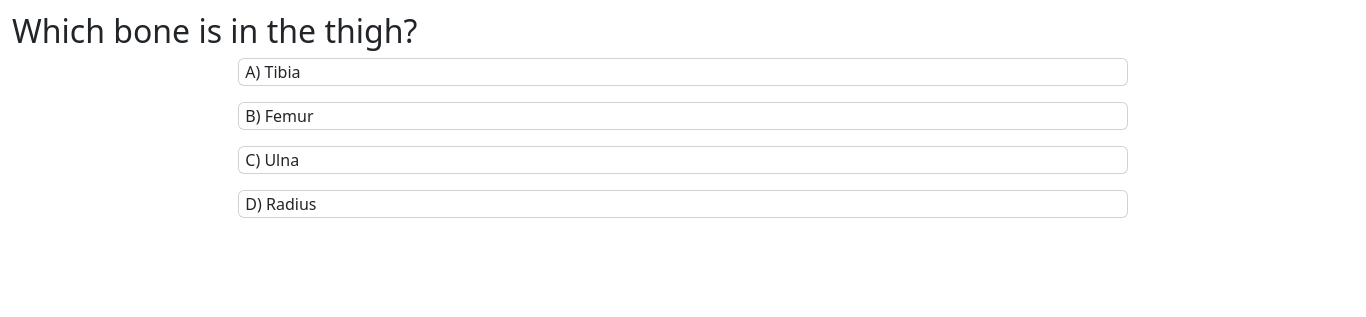
Question page › shows a save error when answer persistence fails
Click the button "B) Femur": (289, 116) [238, 102, 1128, 130]
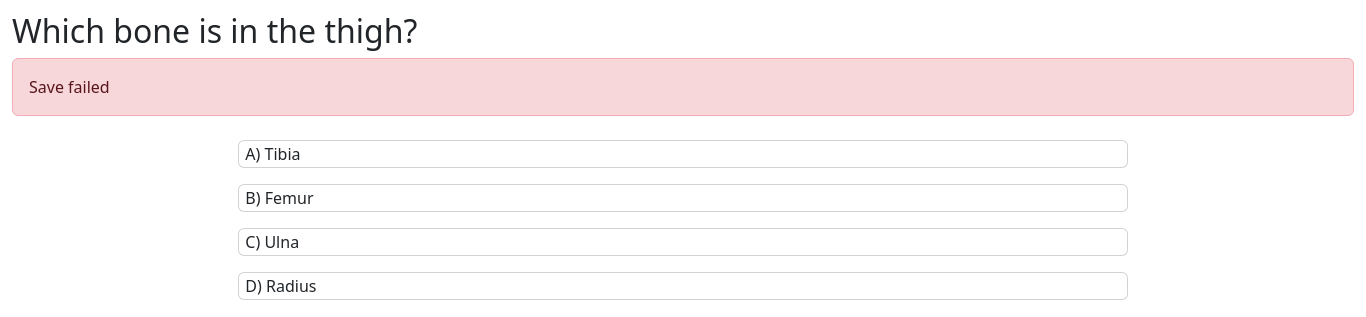
Expected: the text "Save failed" is shown, [12, 58, 1354, 116]
